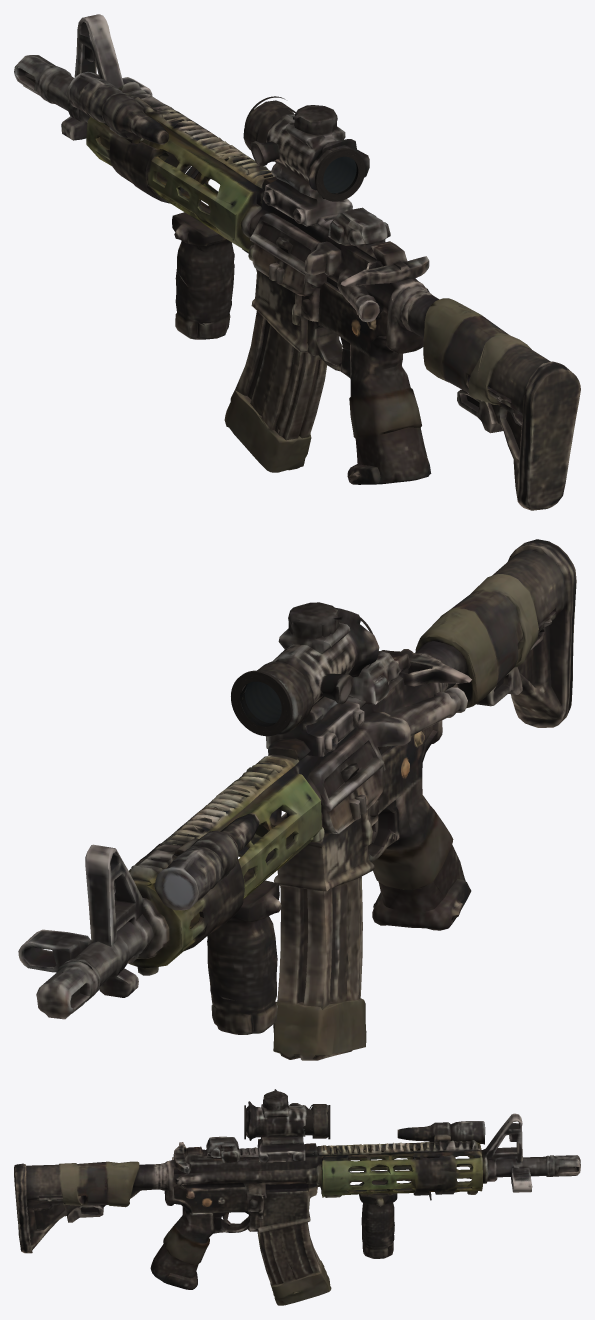
File: rifle-optic.glb
3 views of the same model, one above another, from view 1: azimuth 30°, elevation 25°; view 2: azimuth 150°, elevation 25°; view 3: azimuth 270°, elevation 25° (orthographic). The views are drawn at different scales.
Visible parts, largest first — view 1: rifle, OpticBody, OpticGlassRear; view 2: rifle, OpticBody, OpticGlassFront; view 3: rifle, OpticBody.
Part boxes in pixels (left/top/right/bottom): rifle: left=14, top=14, right=580, bottom=510; OpticBody: left=244, top=96, right=365, bottom=201; OpticGlassRear: left=323, top=157, right=356, bottom=192; rifle: left=18, top=539, right=576, bottom=1060; OpticBody: left=231, top=617, right=373, bottom=736; OpticGlassFront: left=245, top=682, right=281, bottom=722; rifle: left=14, top=1089, right=580, bottom=1305; OpticBody: left=244, top=1105, right=330, bottom=1139.
Bounding box in the file's own units: 0.1432 × 0.3843 × 0.92.
Materials: 3 (2 with a texture image).
